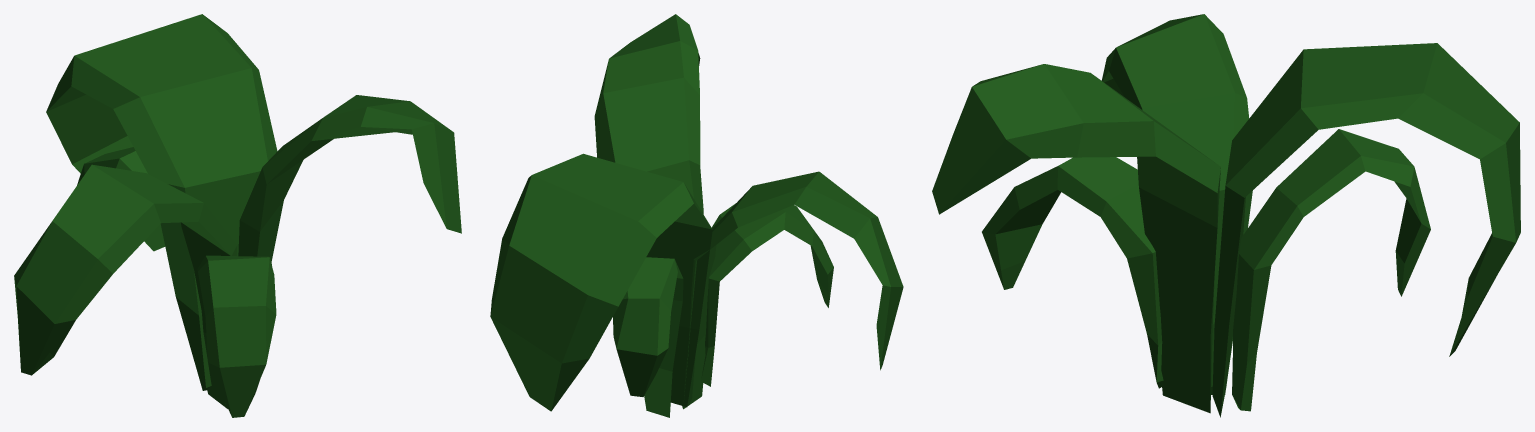
Rendered from plant3.glb.
3 renders of one model, left to right at view 1: azimuth 30°, elevation 25°; view 2: azimuth 150°, elevation 25°; view 3: azimuth 270°, elevation 25°, orthographic. The views are drawn at different scales.
Parts seen in each view (by area): view 1: plant1; view 2: plant1; view 3: plant1.
Boxes of the visible parts, bbox=[...] form: plant1: bbox=[14, 14, 461, 417]; plant1: bbox=[490, 14, 903, 417]; plant1: bbox=[932, 14, 1520, 417].
Bounding box in the file's own units: 1.03 × 0.8986 × 1.24.
